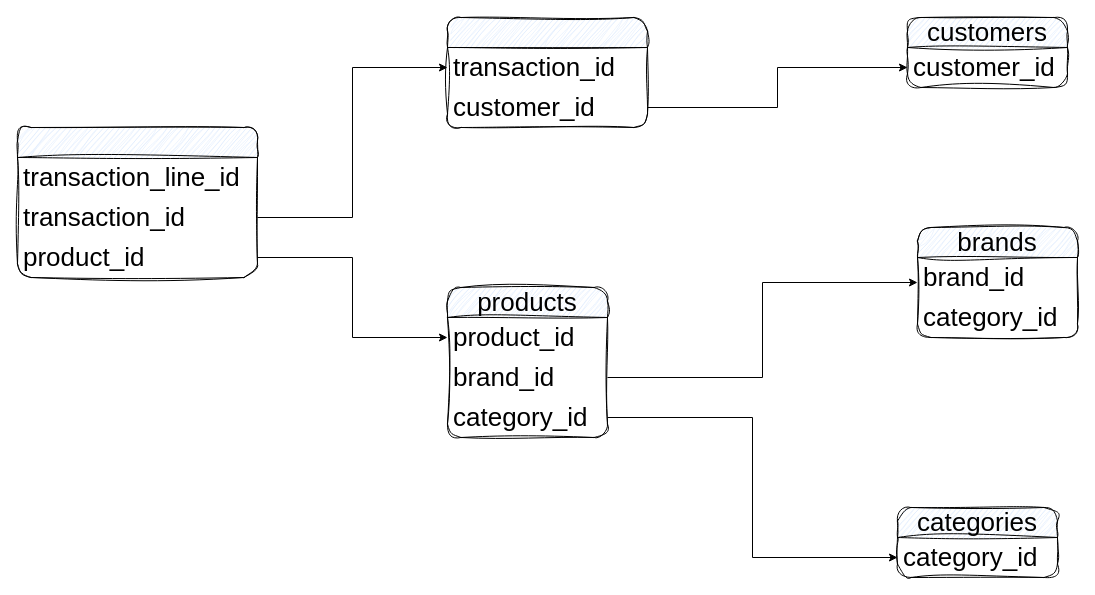
Image size: 1095x595. Some labels were removed from this diagram. The shapes that lost their labels are listed below. From the top down, each one's box as (x1, y1, x2, y2) in pixels, then its label:
(446, 16, 648, 128): transactions
(16, 126, 258, 278): transaction_lines
